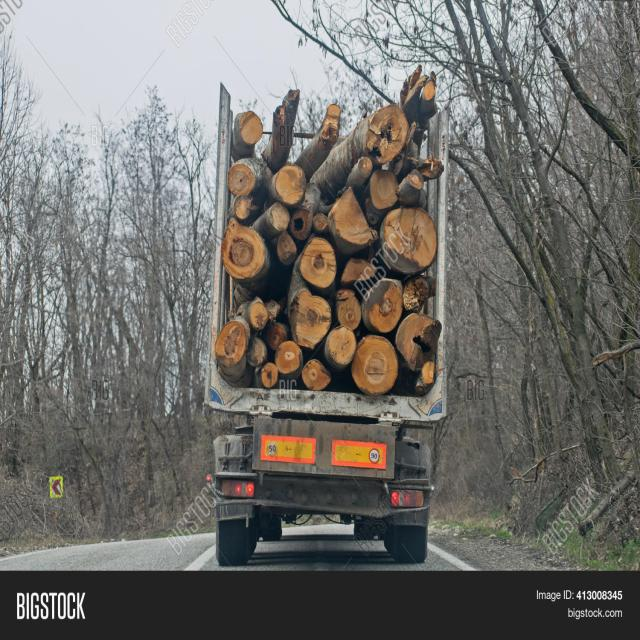Truck: (203, 58, 459, 565)
